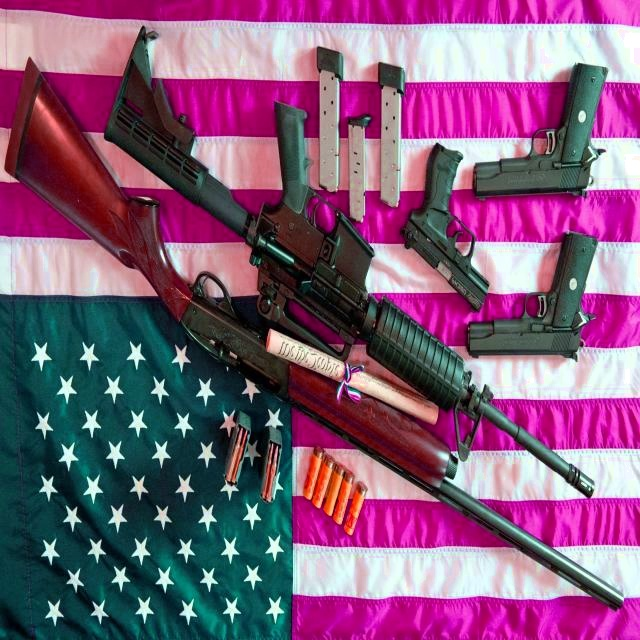gun: (10, 98, 623, 613), (106, 46, 595, 498), (472, 53, 615, 206)
